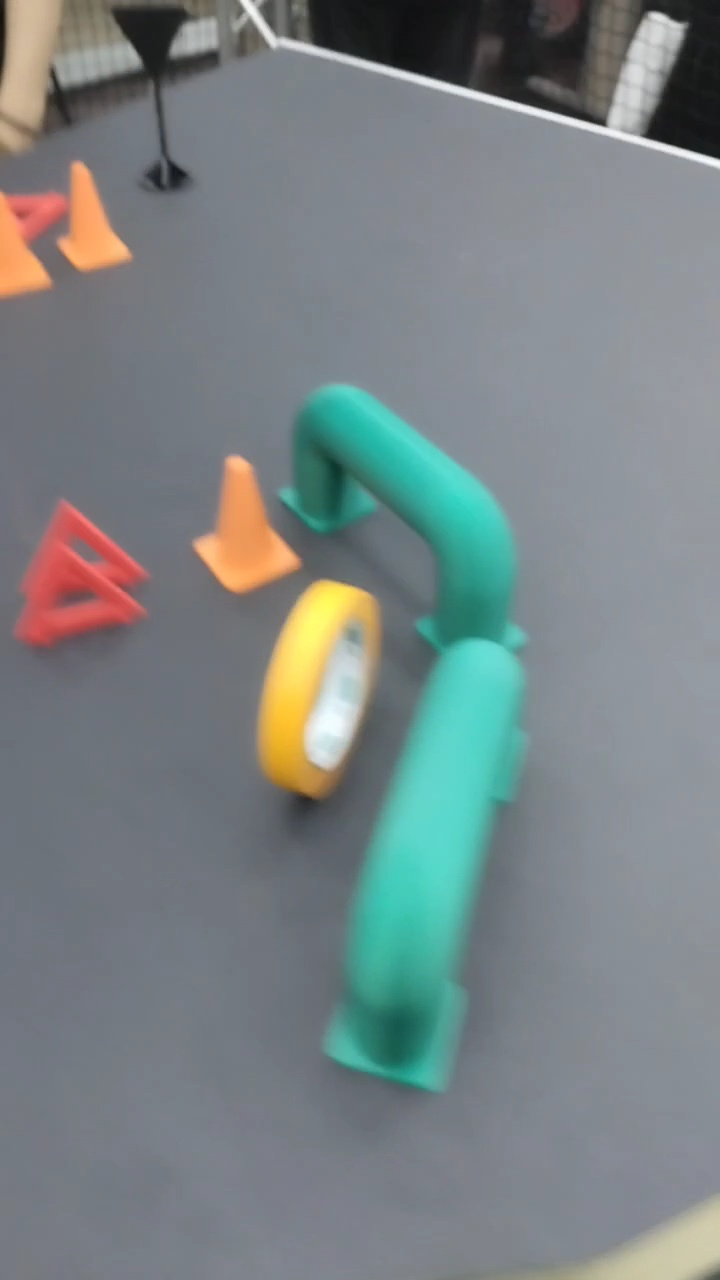No entry: (311, 619, 555, 1089), (264, 371, 535, 673)
Parking: (14, 518, 148, 674), (190, 420, 297, 594), (16, 481, 151, 609), (56, 147, 128, 288)
